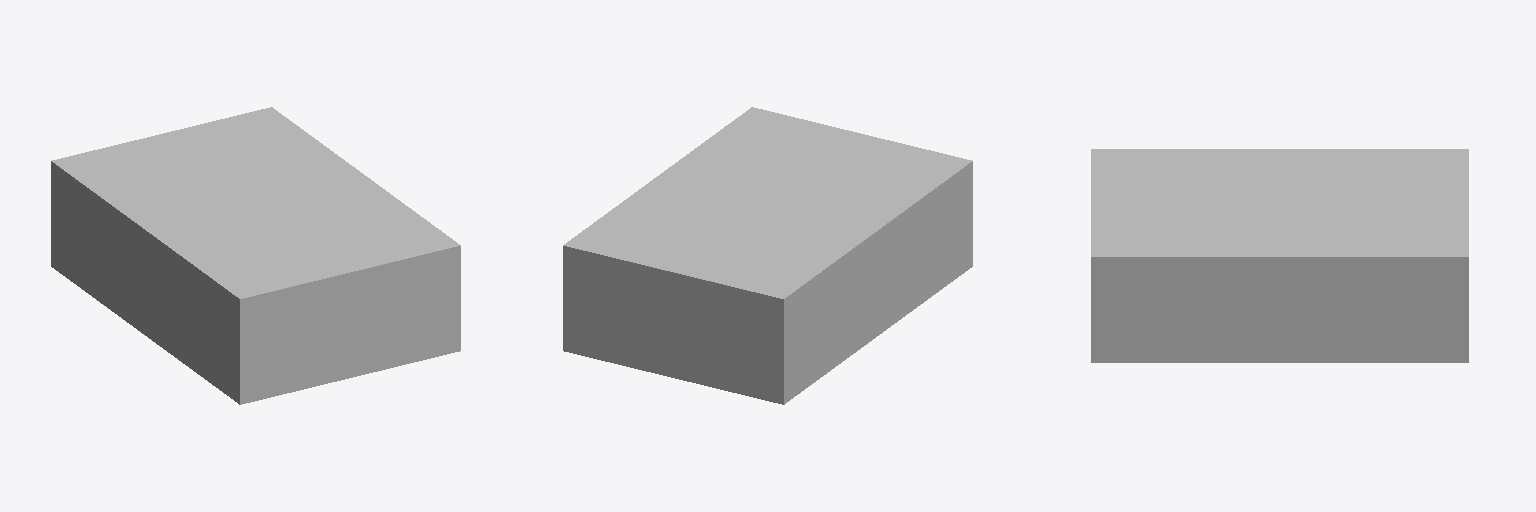
Rendered from shelves.obj.
The picture shows the model from 3 angles: view 1: azimuth 30°, elevation 25°; view 2: azimuth 150°, elevation 25°; view 3: azimuth 270°, elevation 25°; orthographic projection.
Parts seen in each view (by area): view 1: Body; view 2: Body; view 3: Body.
Boxes of the visible parts, x1,y1,x2,y2 form: Body: [51, 107, 460, 404]; Body: [563, 107, 972, 404]; Body: [1091, 149, 1468, 362].
Size of the model in its own units: 744 by 340 by 1104.